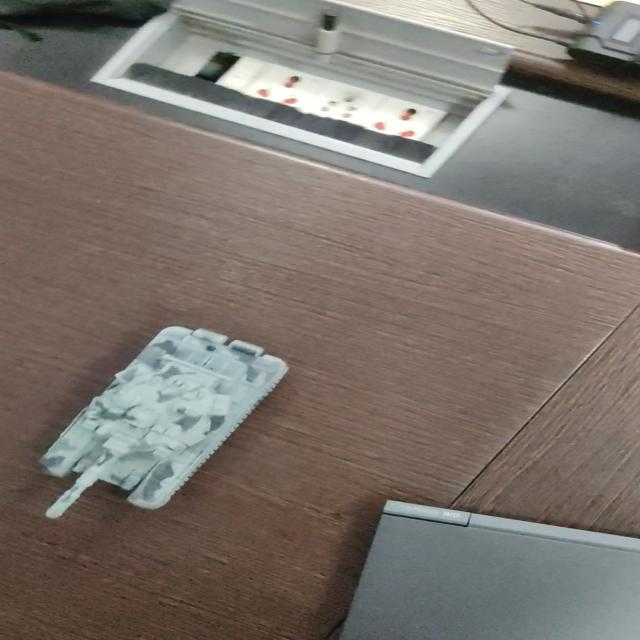tank: (28, 314, 299, 523)
